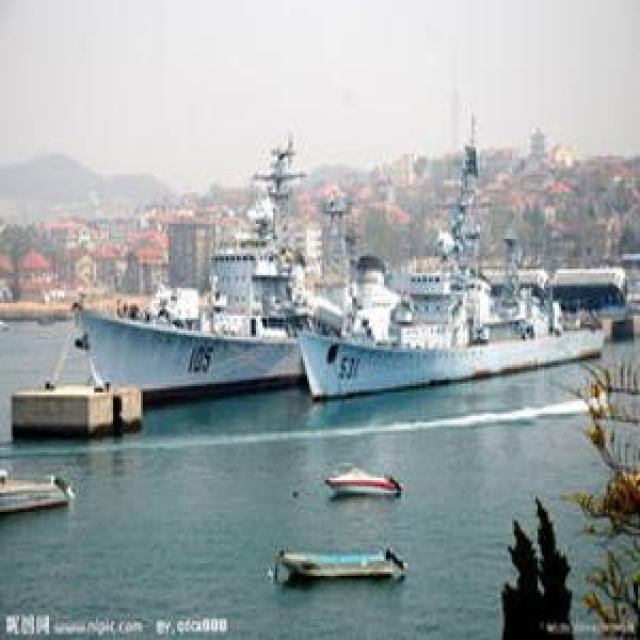navalvessels: (276, 132, 622, 398), (78, 143, 304, 379)
